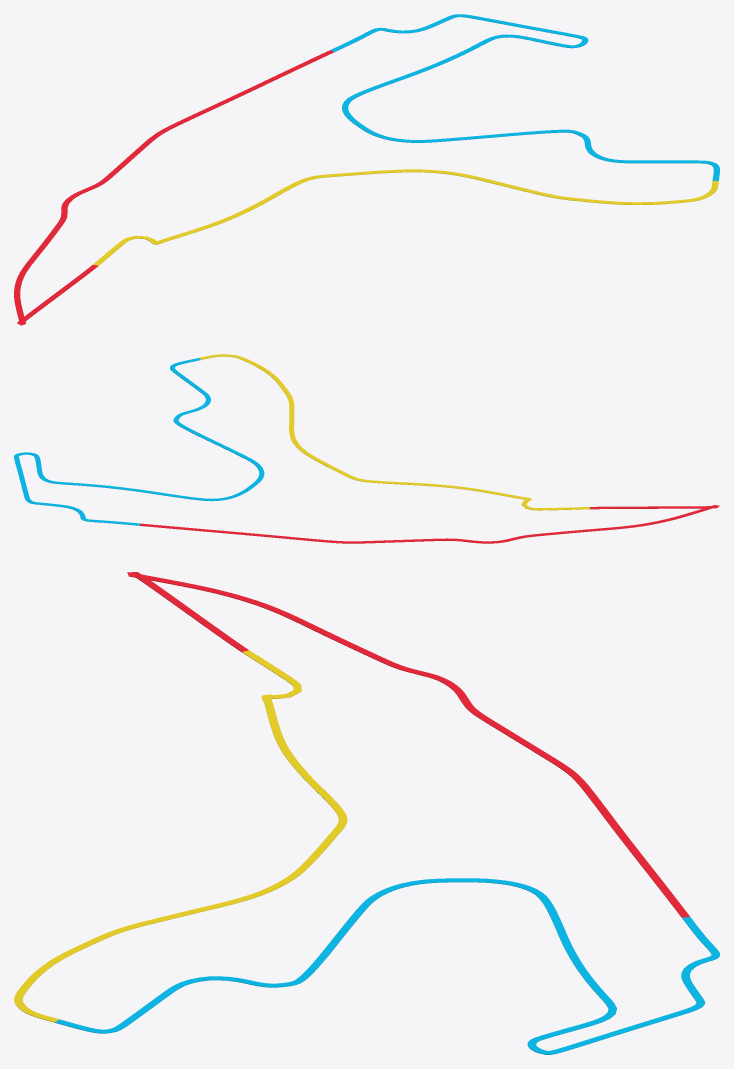
File: SpaSectors.glb
The picture shows the model from 3 angles, top to bottom: view 1: azimuth 30°, elevation 25°; view 2: azimuth 150°, elevation 25°; view 3: azimuth 270°, elevation 25°; orthographic projection. The views are drawn at different scales.
Parts seen in each view (by area): view 1: SectorStrip_2, SectorStrip_1, SectorStrip_3; view 2: SectorStrip_2, SectorStrip_1, SectorStrip_3; view 3: SectorStrip_2, SectorStrip_1, SectorStrip_3.
Boxes of the visible parts, left/top/right/bottom form: SectorStrip_2: left=330, top=14, right=719, bottom=180; SectorStrip_1: left=14, top=50, right=334, bottom=325; SectorStrip_3: left=93, top=169, right=718, bottom=265; SectorStrip_2: left=14, top=358, right=264, bottom=525; SectorStrip_1: left=139, top=505, right=719, bottom=543; SectorStrip_3: left=199, top=354, right=589, bottom=510; SectorStrip_2: left=55, top=878, right=719, bottom=1054; SectorStrip_1: left=127, top=572, right=689, bottom=917; SectorStrip_3: left=14, top=650, right=347, bottom=1022.
Size of the model in its own units: 15.85 by 0.006 by 9.8.
